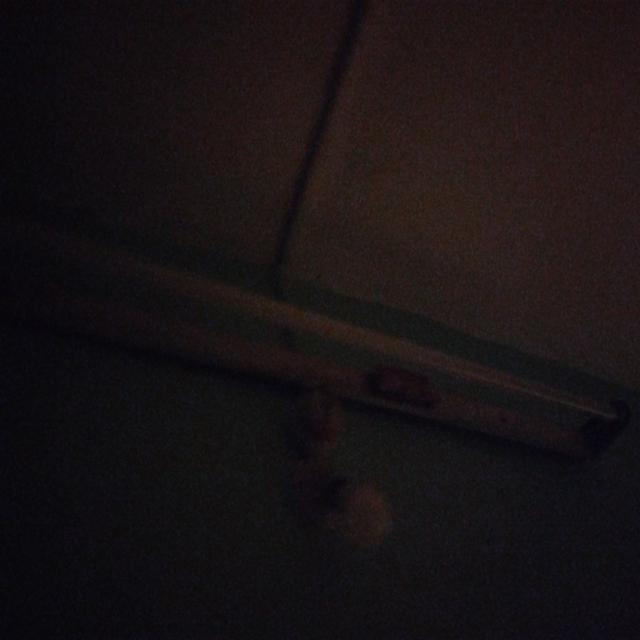tubelight_off: (2, 197, 620, 466)
